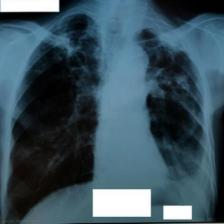tuberculosis: (0, 9, 209, 224)
